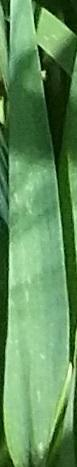Wheat: (3, 225, 71, 465), (7, 1, 48, 219)
